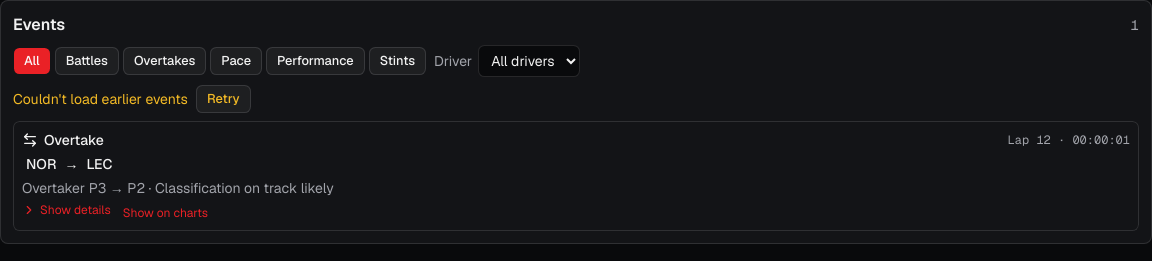
Test: EventFeed › shows a notice and Retry when backfill failed, with live cards kept and no false empty state
Expected: the text "Couldn't load earlier events Retry" is shown, [13,85,250,113]
Expected: the number of list items is 1, [13,121,1139,231]
What coordinates should you click on to do the following:
click the button "Retry"
I would click on:
 (223, 99)
Its box is [196,85,251,113].
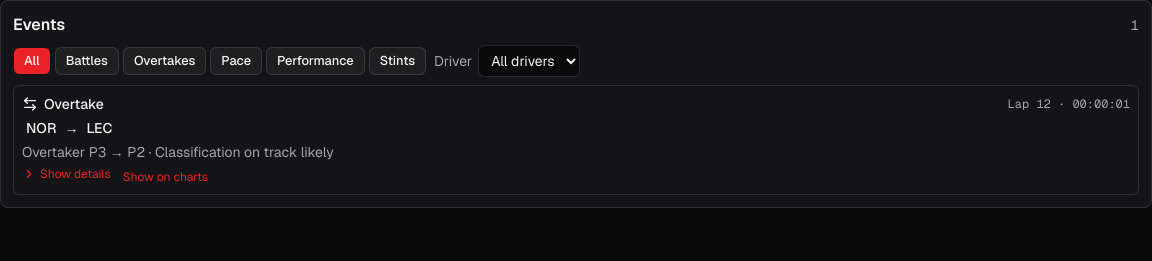
Result: the text "Couldn't load" is gone
